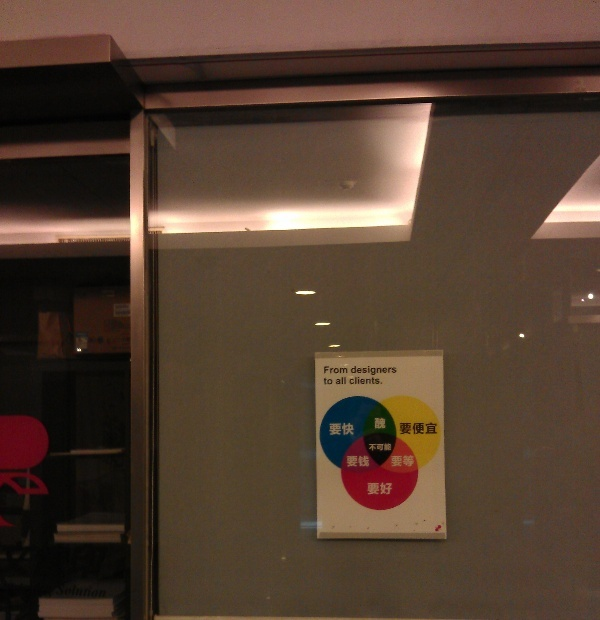text: (337, 424, 352, 437), (401, 423, 416, 436), (417, 423, 432, 436), (353, 456, 368, 468), (369, 483, 384, 495), (401, 456, 414, 468), (353, 366, 368, 376), (369, 366, 384, 376), (385, 366, 398, 376), (369, 444, 384, 452), (353, 377, 368, 385), (369, 377, 383, 385), (391, 456, 400, 468), (324, 366, 336, 375), (375, 419, 384, 430), (337, 366, 348, 375), (385, 483, 393, 495), (324, 378, 336, 386), (329, 424, 336, 437), (337, 377, 347, 386), (433, 423, 438, 436), (385, 444, 393, 452), (347, 456, 352, 468), (353, 424, 355, 437), (369, 456, 371, 468), (385, 419, 387, 430), (350, 377, 352, 385), (367, 483, 368, 495), (351, 366, 352, 376)
